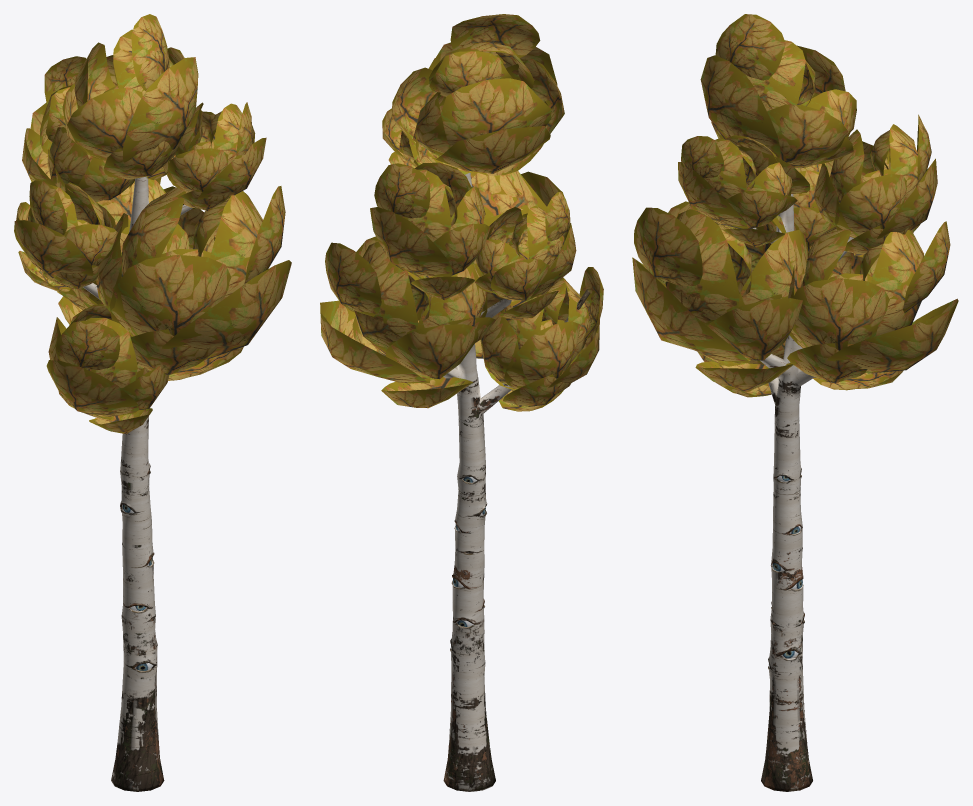
File: SM_Birch02.fbx
3 renders of one model, left to right at view 1: azimuth 30°, elevation 25°; view 2: azimuth 150°, elevation 25°; view 3: azimuth 270°, elevation 25°, orthographic.
Parts seen in each view (by area): view 1: SM_Birch02_LOD0; view 2: SM_Birch02_LOD0; view 3: SM_Birch02_LOD0.
Part boxes in pixels (x1=…): SM_Birch02_LOD0: x1=14, y1=14, x2=291, y2=791; SM_Birch02_LOD0: x1=320, y1=14, x2=603, y2=791; SM_Birch02_LOD0: x1=632, y1=14, x2=958, y2=791.
Bounding box in the file's own units: 464 × 626 × 1602.
2 materials, 2 textured.
